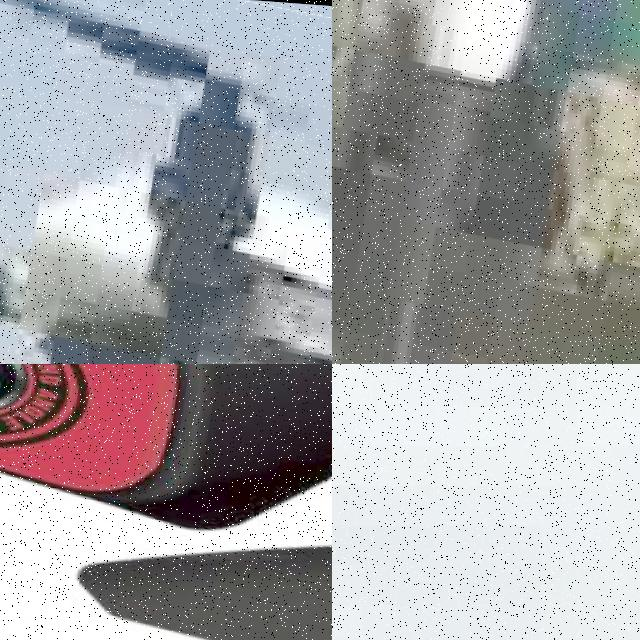0: (0, 0, 332, 364), (332, 0, 640, 364)
drone: (0, 364, 332, 640)
